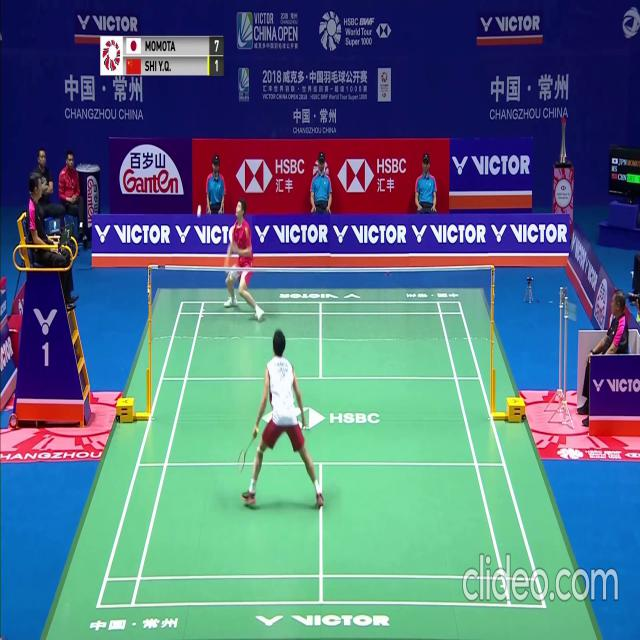Shuttlecock: (196, 210, 201, 218)
